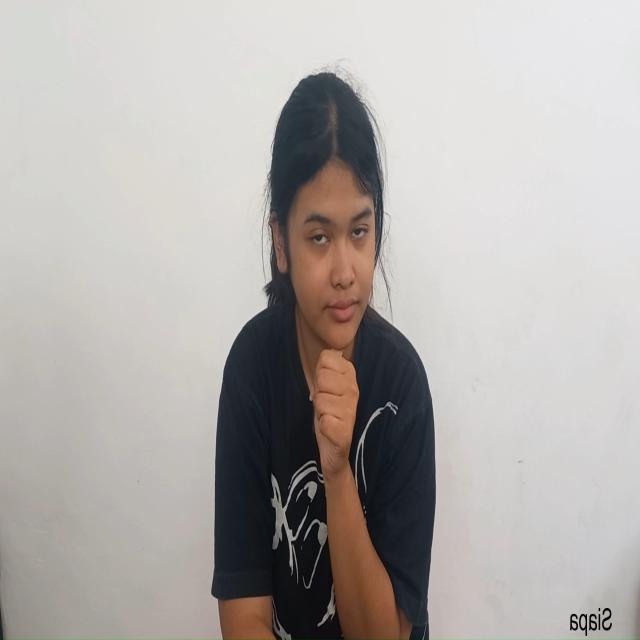Siapa -BISINDO-: (266, 68, 384, 483)
